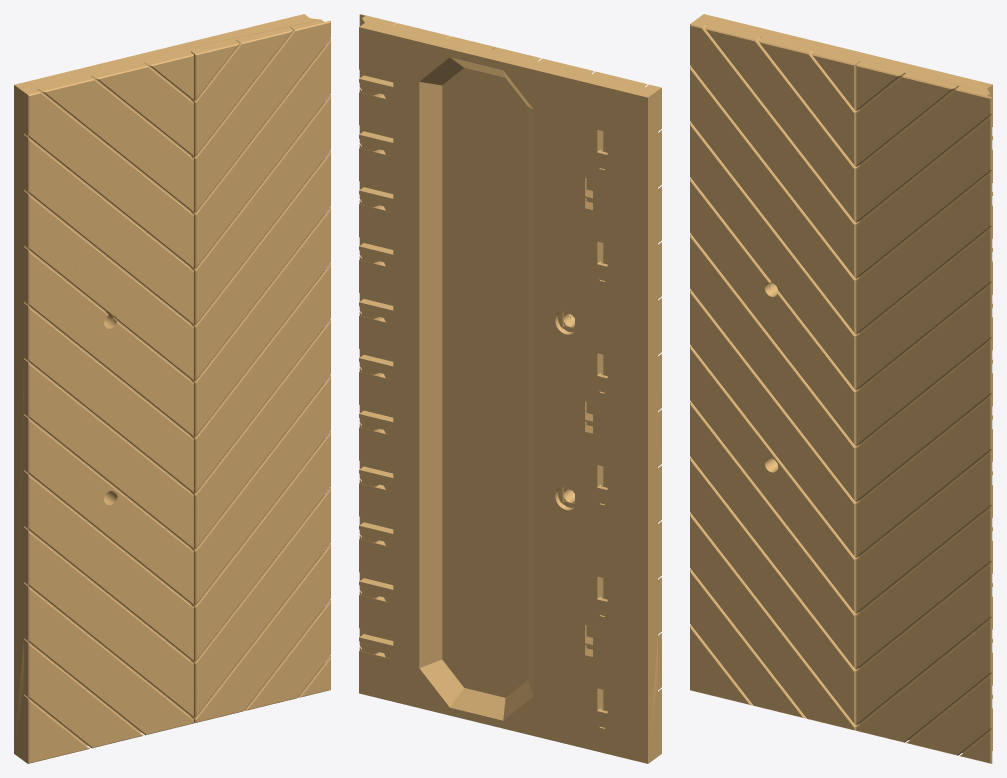
File: Door_Chevron_1W-3H_RH.lib.glb
3 renders of one model, left to right at view 1: azimuth 30°, elevation 25°; view 2: azimuth 150°, elevation 25°; view 3: azimuth 330°, elevation 25°, orthographic.
Visible parts, largest first — view 1: Door_Chevron_1W-3H_RH; view 2: Door_Chevron_1W-3H_RH; view 3: Door_Chevron_1W-3H_RH.
Boxes of the visible parts, <box> form: Door_Chevron_1W-3H_RH: <box>14,14,330,763</box>; Door_Chevron_1W-3H_RH: <box>359,14,661,763</box>; Door_Chevron_1W-3H_RH: <box>690,14,992,763</box>.
Bounding box in the file's own units: 79.14 × 167 × 6.5.
